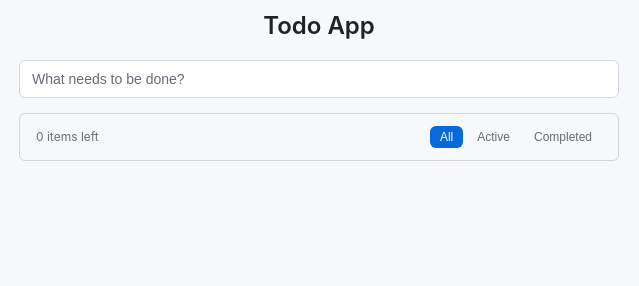
App › filters todos by active
In the field with placeholder "What needs to be done?": [319, 79] box [19,60,619,98], type "Buy milk"
Then press Enter
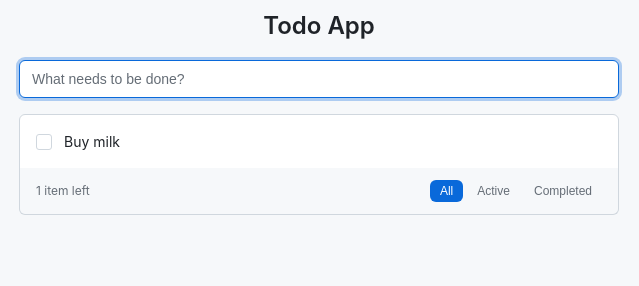
In the field with placeholder "What needs to be done?": [319, 79] box [19,60,619,98], type "Walk the dog"
Then press Enter
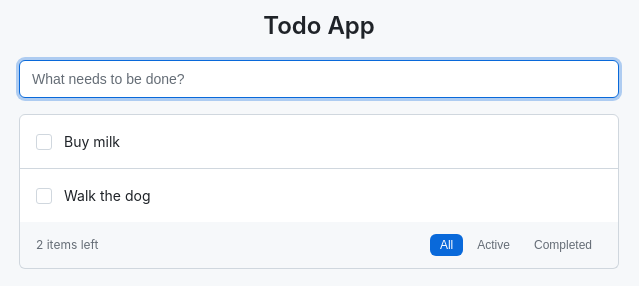
Click the checkbox next to "Buy milk": [44, 142] box [36,134,52,150]
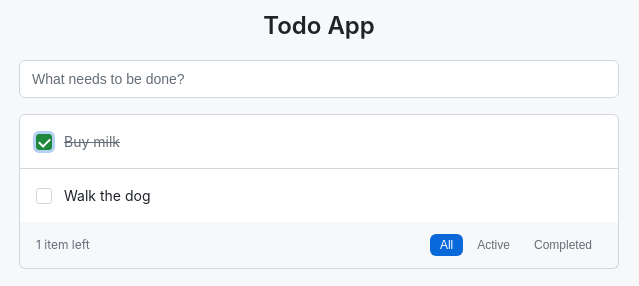
Click the button "Active": [494, 245] box [467,234,520,256]
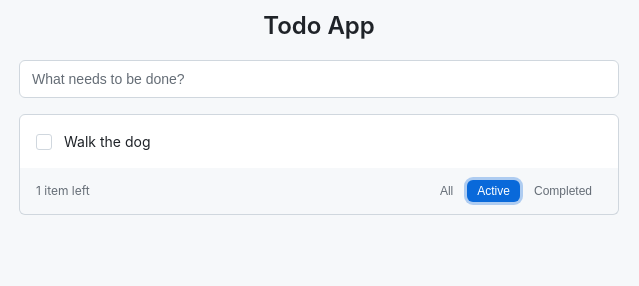
Check: the text "Walk the dog" is shown, box [64,133,150,150]
Check: the text "Buy milk" is gone
